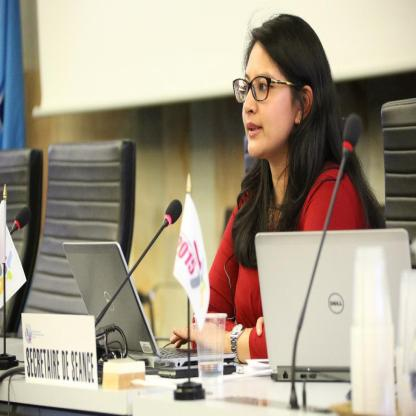board: (254, 226, 413, 378), (63, 243, 234, 373)
